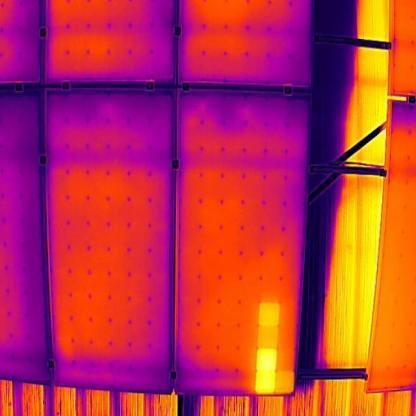anomaly: (252, 299, 296, 398)
